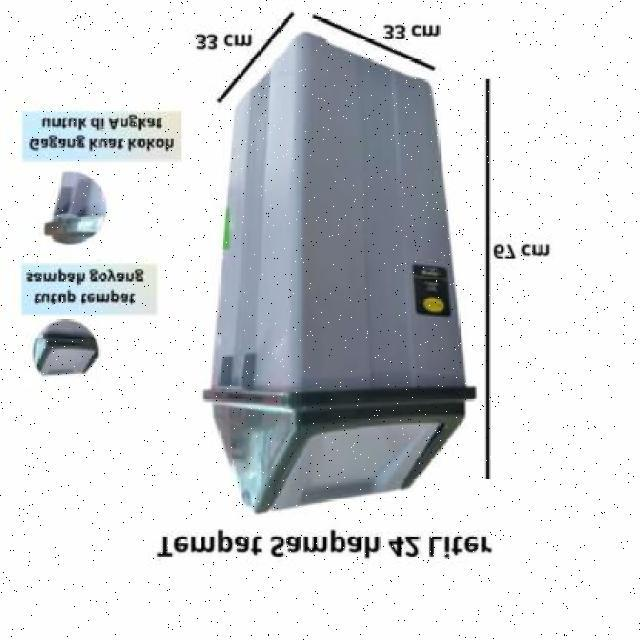garbage container: (193, 21, 482, 524)
